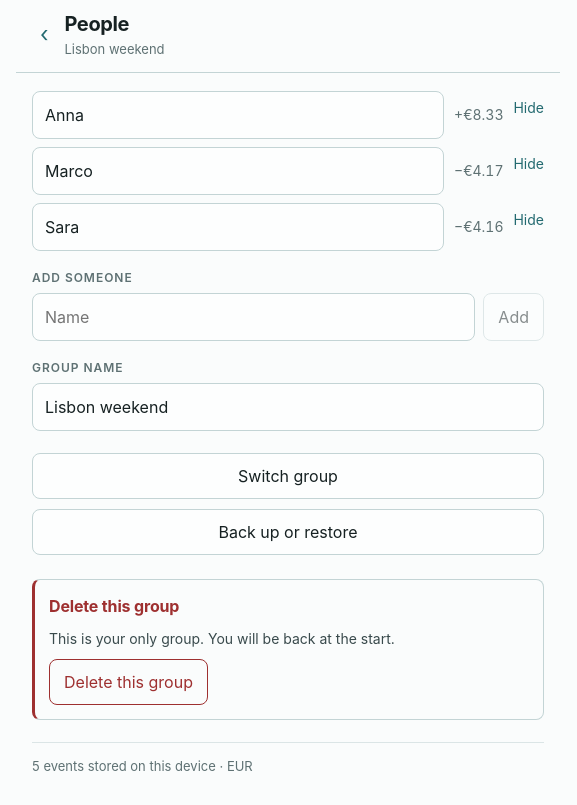
Test case: with a ledger › asks before deleting a whole group, and says it can come back
Click the button "Delete this group".
click(128, 682)  # box [49,658,208,704]
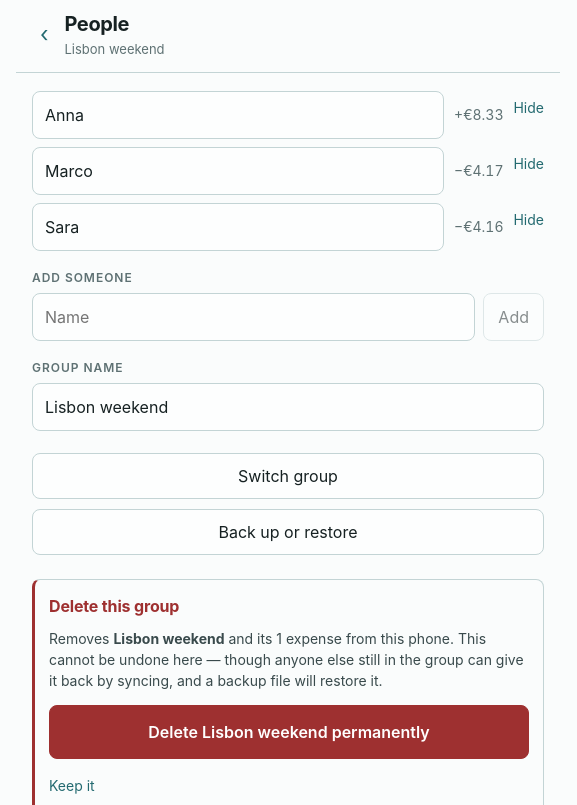
Click the button "Keep it".
click(72, 785)  # box [49,768,95,802]
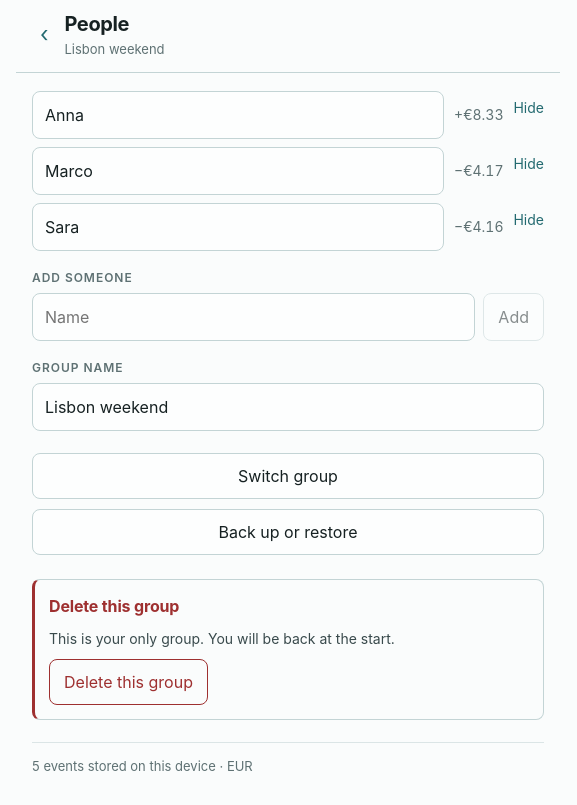
expect the text "cannot be undone here" is gone: met
